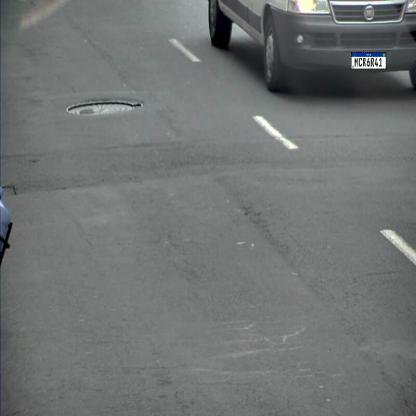PlacaM: (351, 52, 386, 69)
